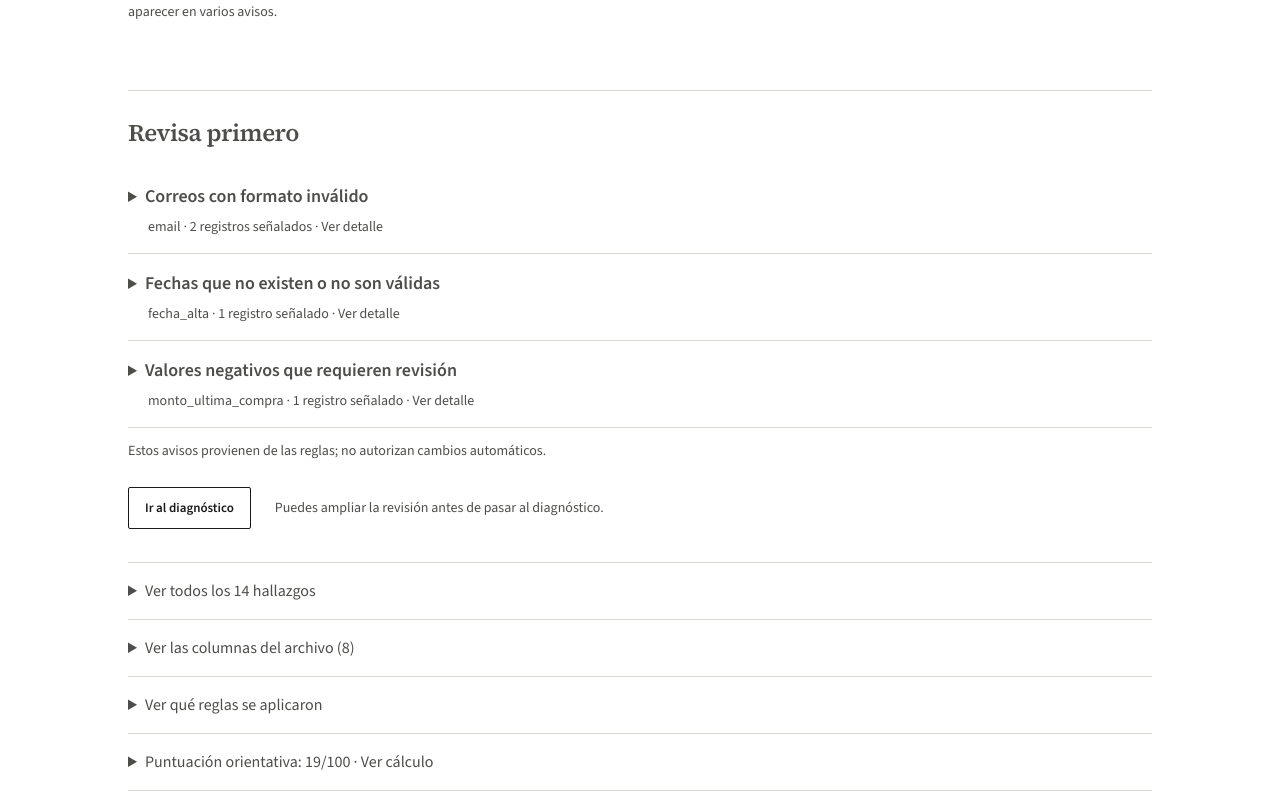
simple profile separates overview from optional evidence › shows priorities without exposing the complete tables or certifying suitability
(page scrolled)
Expected: the number of elements with test id "profile-priority-item" is 3, [128,167,1152,254]; [128,254,1152,341]; [128,341,1152,428]
Expected: the button with test id "profile-continue-diagnosis" is shown, [128,487,251,529]
Click the heading "Ver todos los 14 hallazgos": (230, 591) [145,580,316,601]
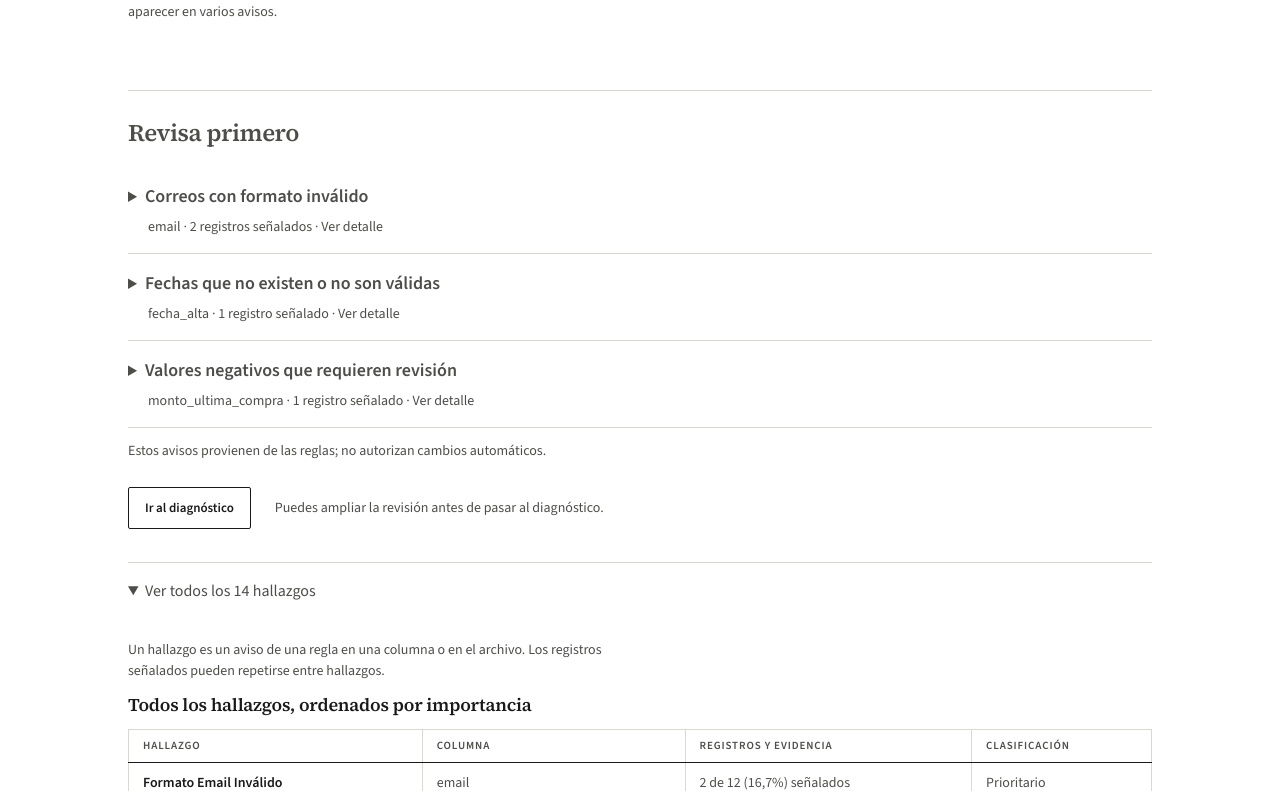
Now the number of rows is 15
